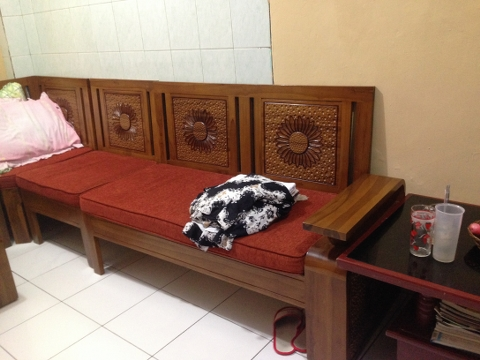kursi: (18, 75, 407, 360)
tempat minum: (432, 203, 465, 263), (410, 204, 436, 257)
